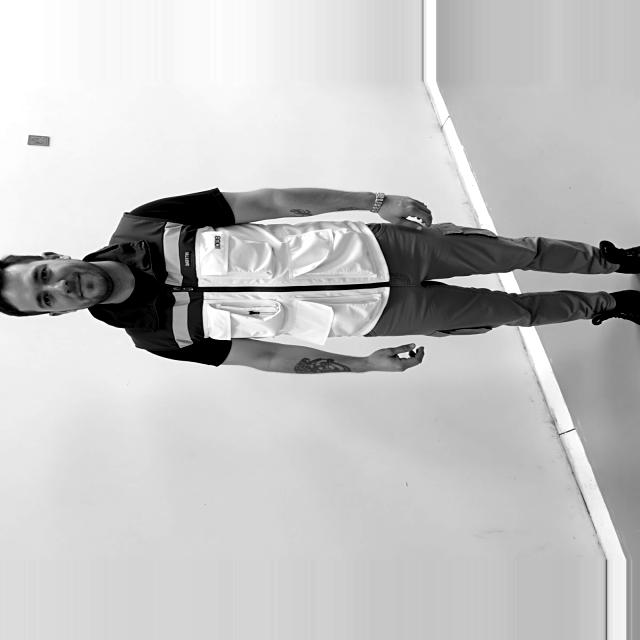Vest: (130, 220, 378, 337)
